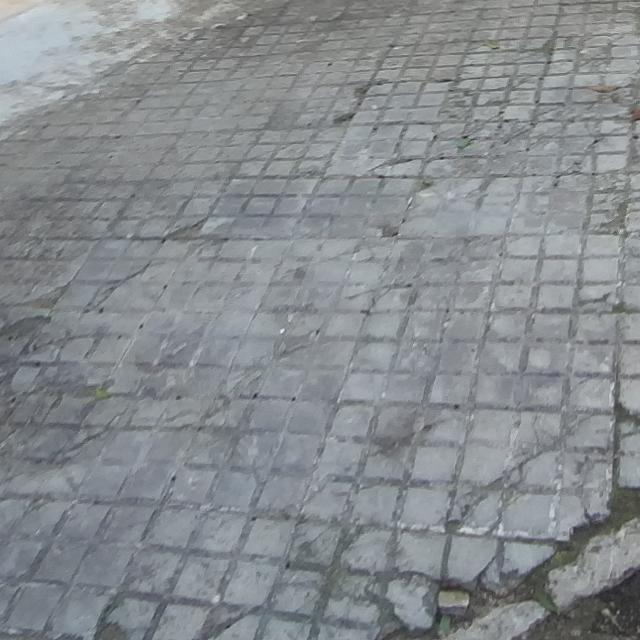calcada_quebrada: (283, 519, 398, 612), (0, 399, 130, 478), (504, 408, 605, 480), (0, 281, 70, 364), (363, 408, 464, 464), (428, 125, 526, 177), (203, 364, 269, 432), (81, 258, 155, 315), (295, 457, 361, 520), (279, 236, 366, 279), (85, 593, 164, 640), (0, 365, 109, 398), (444, 481, 506, 537), (607, 392, 640, 489), (594, 75, 640, 133), (572, 279, 640, 317), (198, 604, 269, 640), (588, 192, 640, 236), (341, 280, 418, 308), (327, 81, 370, 127), (556, 135, 598, 182), (367, 153, 427, 178), (161, 217, 211, 246), (523, 31, 561, 65), (374, 211, 403, 241)
